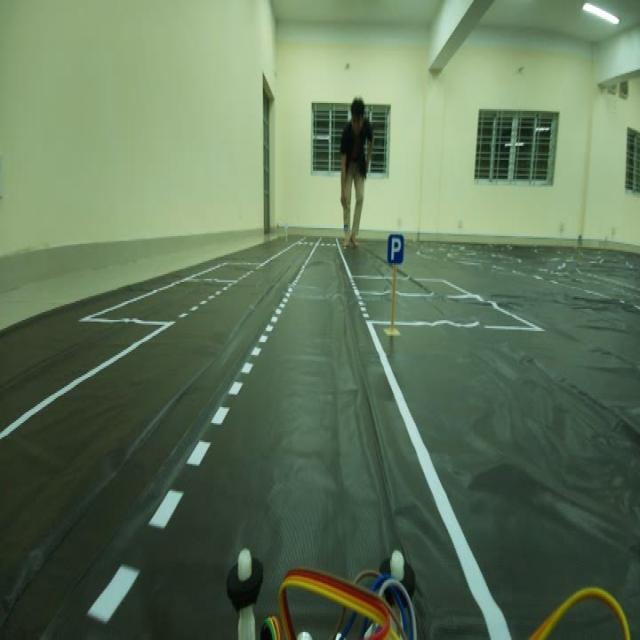parking: (381, 222, 407, 275)
